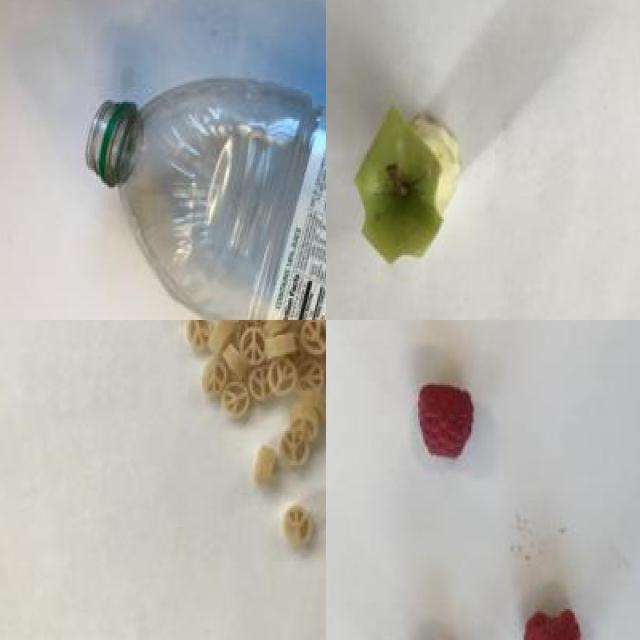compost: (410, 391, 590, 640), (159, 320, 326, 570), (348, 102, 471, 268)
plastic: (85, 83, 326, 320)
